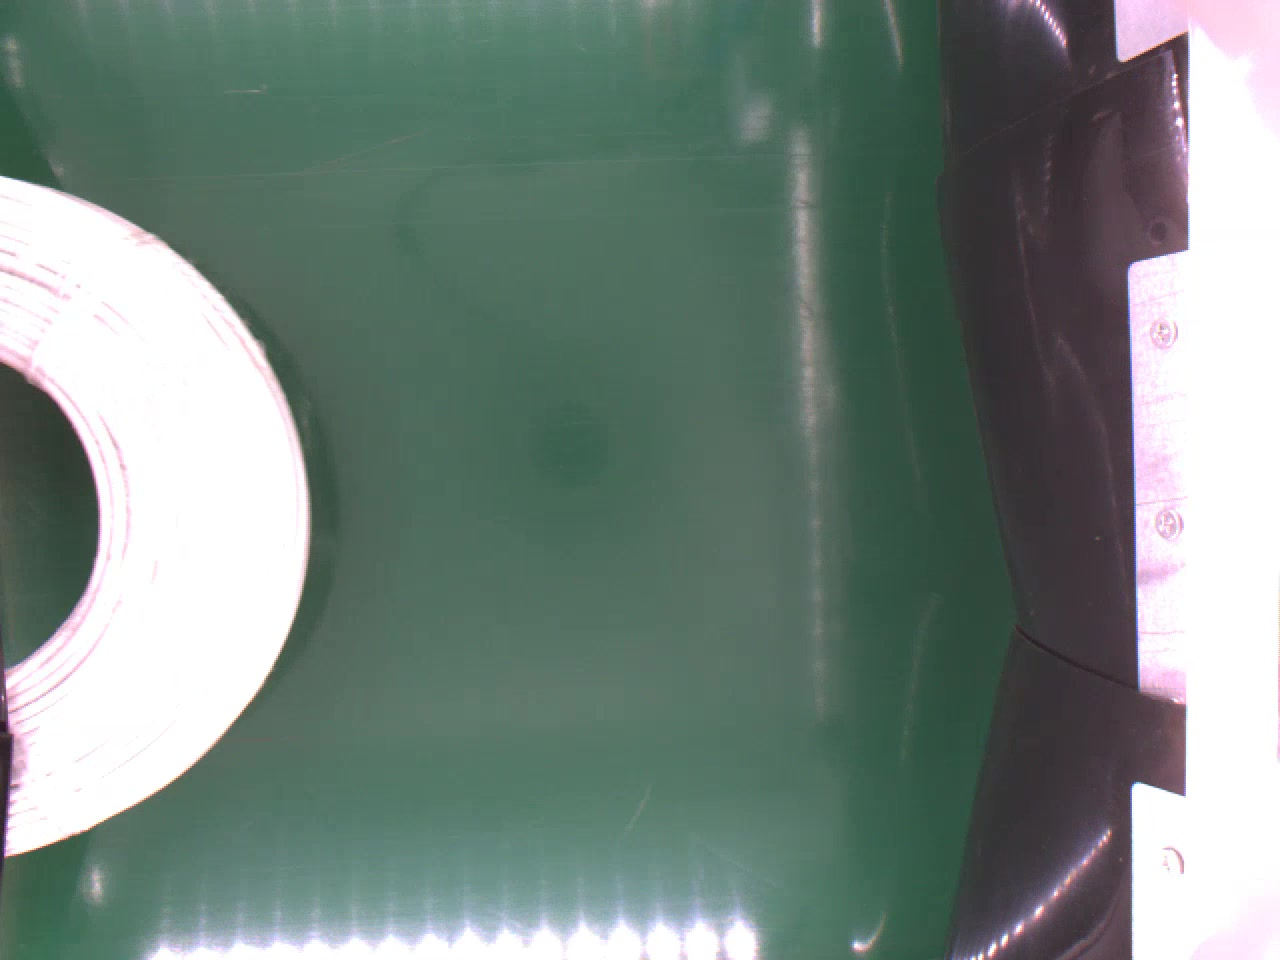white: (0, 168, 311, 857)
